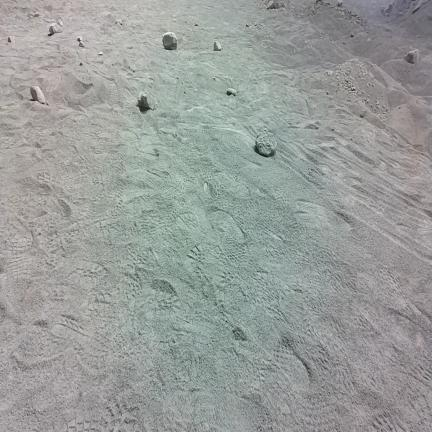Rock: (352, 102, 385, 128), (256, 129, 277, 156), (138, 92, 156, 110), (351, 101, 368, 118), (31, 86, 45, 104), (404, 49, 420, 64), (163, 32, 177, 49), (267, 0, 285, 9), (412, 0, 424, 13), (49, 23, 62, 34), (382, 4, 393, 16), (304, 122, 319, 129), (267, 0, 277, 9), (28, 10, 39, 18), (227, 88, 237, 96), (214, 41, 221, 50), (278, 1, 286, 8), (380, 6, 386, 15), (57, 18, 63, 26), (115, 19, 122, 25), (397, 11, 403, 17), (8, 36, 14, 42), (337, 0, 342, 7), (79, 41, 84, 47), (78, 36, 83, 41), (79, 62, 83, 66), (351, 32, 354, 37), (98, 52, 103, 55), (428, 15, 431, 20), (367, 38, 371, 41), (195, 22, 198, 26), (246, 24, 249, 27)
